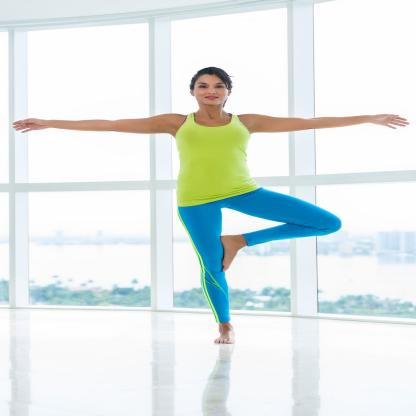tree: (4, 62, 416, 350)
